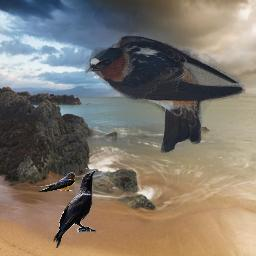Crow: (53, 169, 96, 248)
Swallow: (85, 33, 246, 153), (29, 172, 76, 192)
